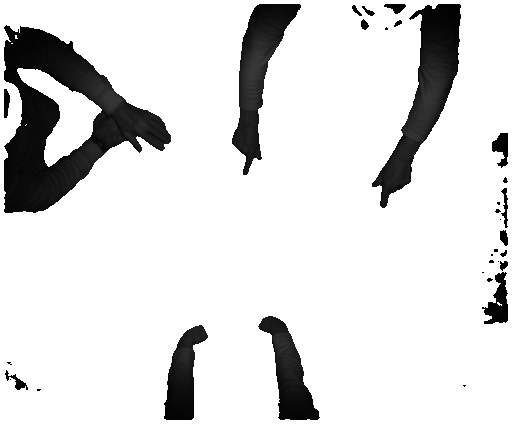fist: (256, 312, 291, 337), (179, 320, 207, 347)
hand: (121, 104, 173, 156), (368, 156, 415, 207), (232, 123, 263, 175)
